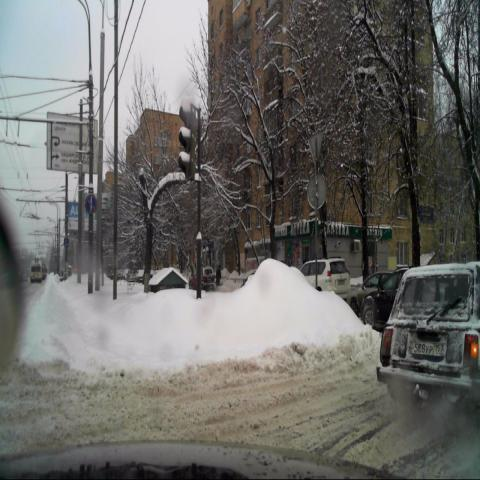3_29: (85, 194, 97, 215)
